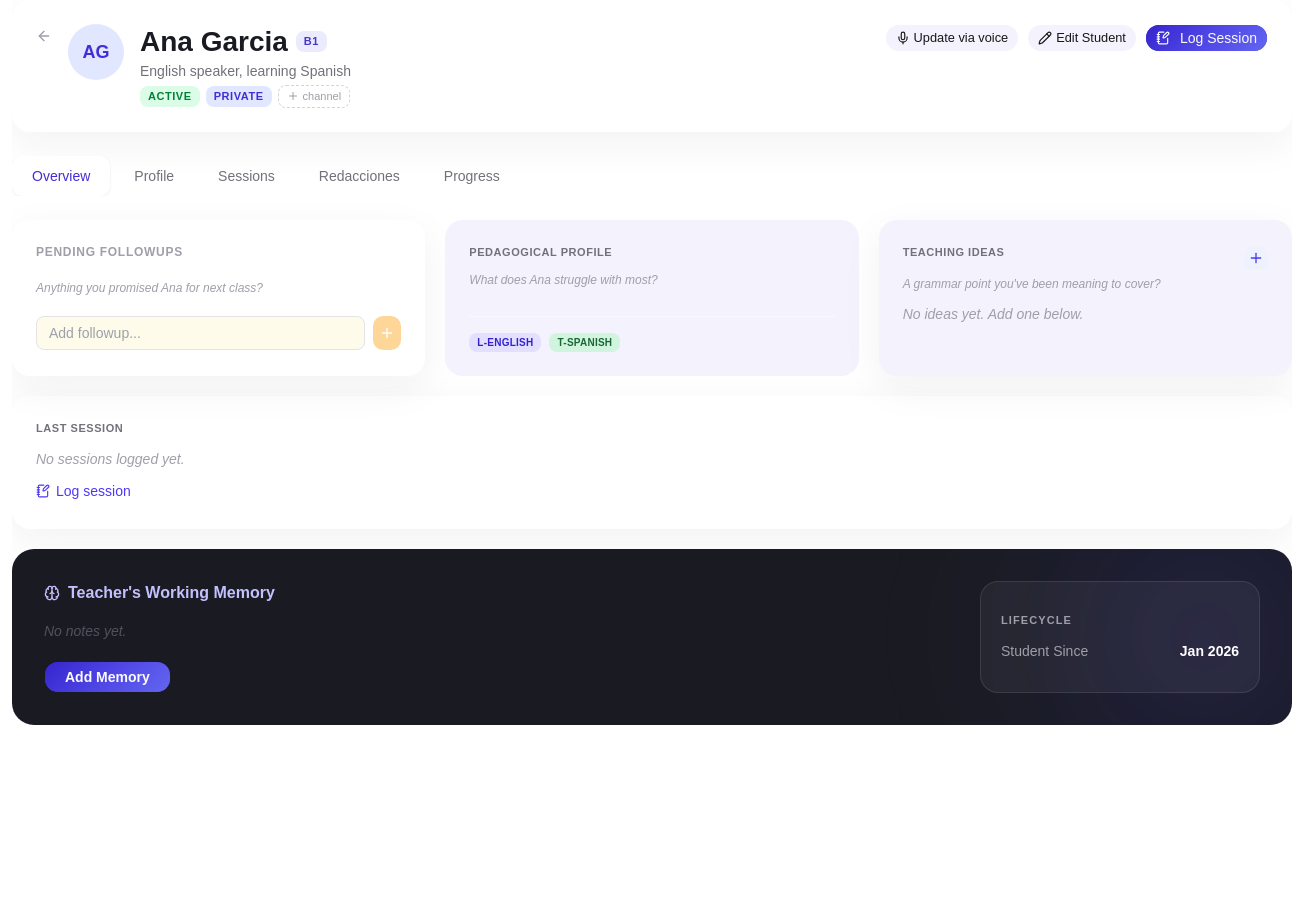
it: StudentDetail - Profile tab sections › shows empty states when no profile data
expect the heading "Ana Garcia" is shown: met, box [140,24,288,59]
Click the tab with test id "tab-profile" at (154, 176), box [114,156,194,196]
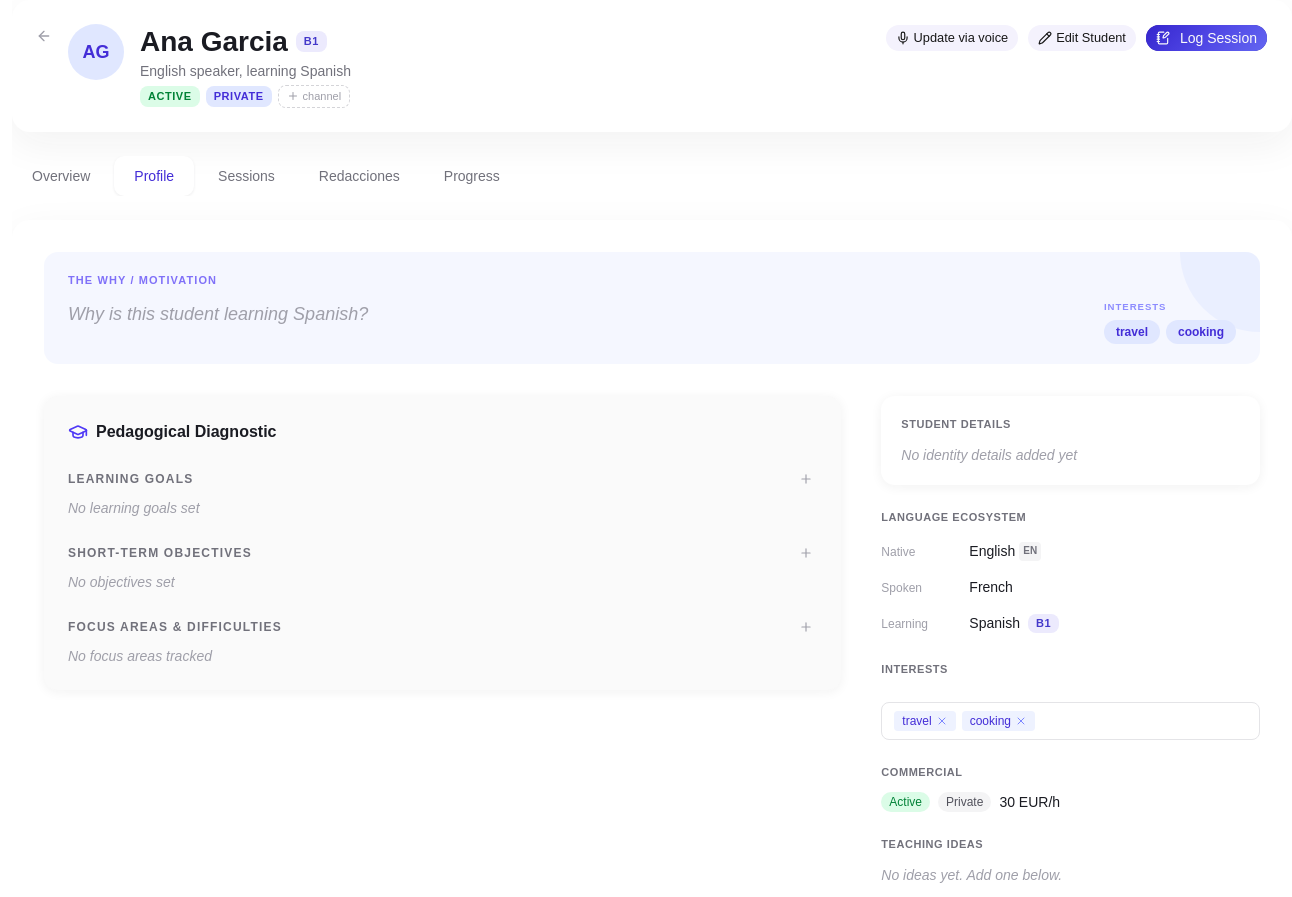
expect the element with test id "profile-about" is shown: met, box [881,396,1260,485]
expect the text "No learning goals set" is shown: met, box [68,500,200,516]
expect the text "No objectives set" is shown: met, box [68,574,175,590]
